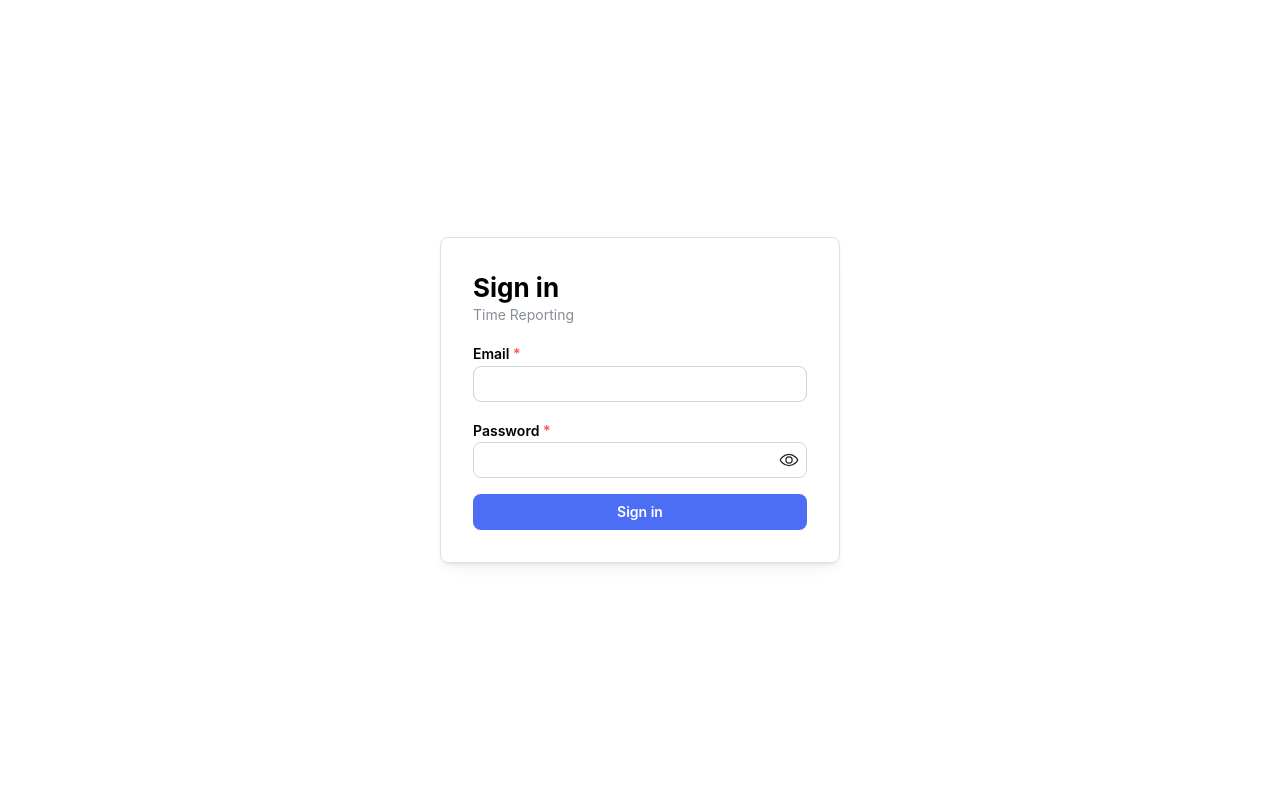
Test: signing in › sends a signed-out visitor to the sign-in page and back after signing in
Check: the heading "Sign in" is shown, box 473,272 -> 559,302
Type "ada@example.com" into the field labelled "Email *" at (640, 384), box 473,366 -> 807,402
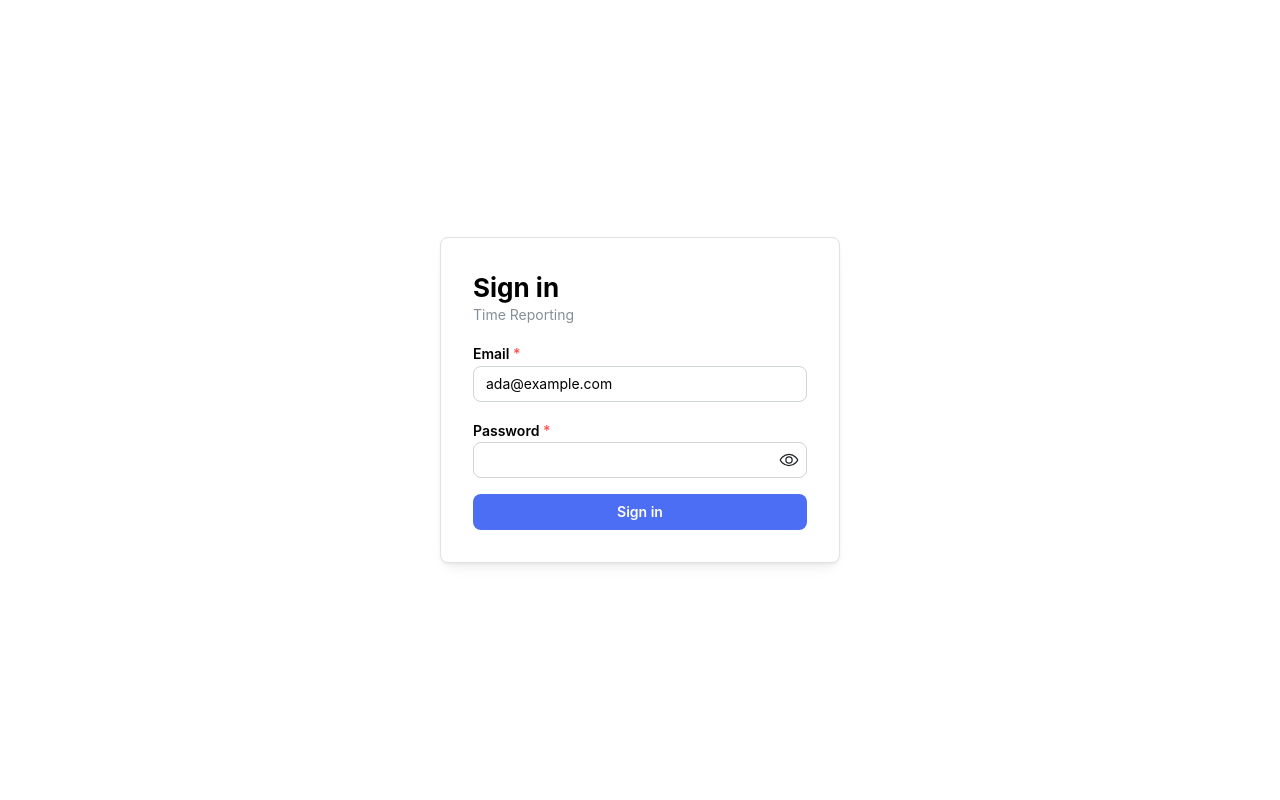
Type "secret-password" into the password field labelled "Password *" at (640, 460), box 474,444 -> 806,478
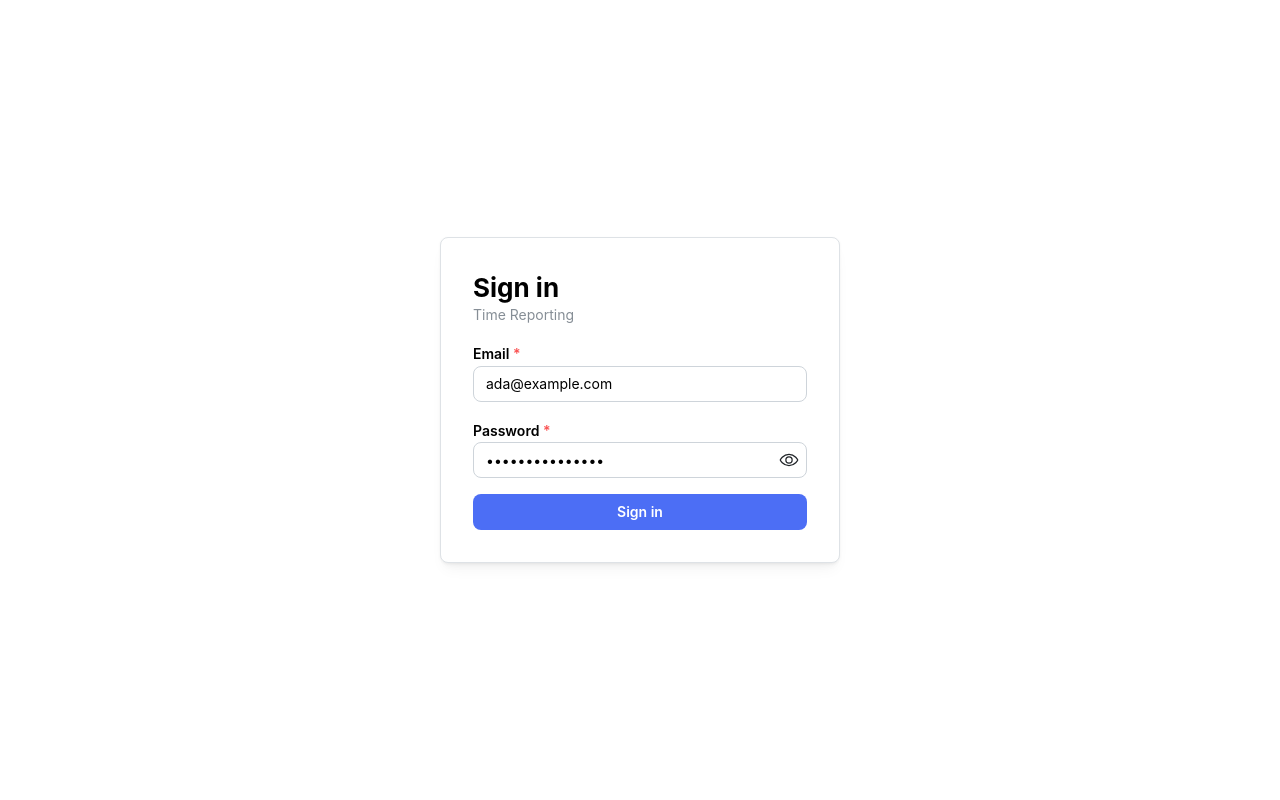
Click the button "Sign in" at (640, 512), box 473,494 -> 807,530
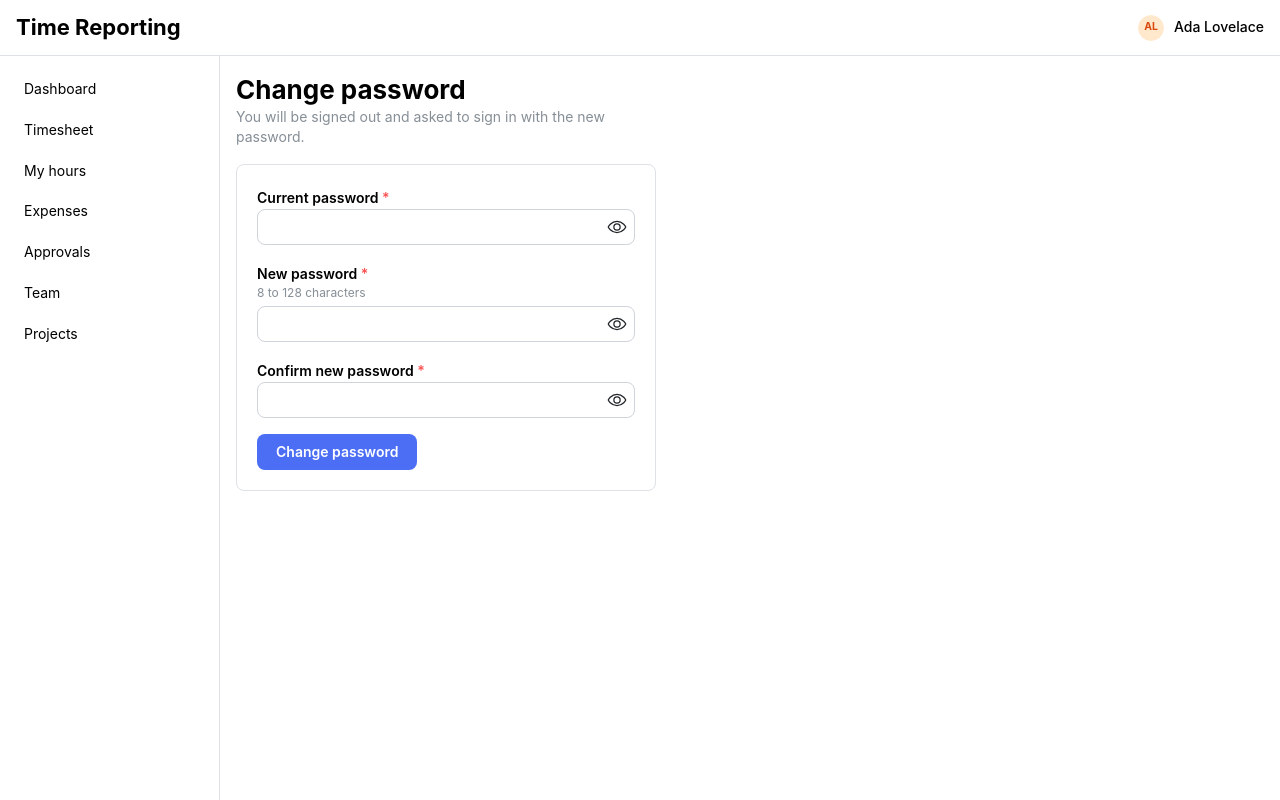
Check: the heading "Change password" is shown, box 236,74 -> 466,105
